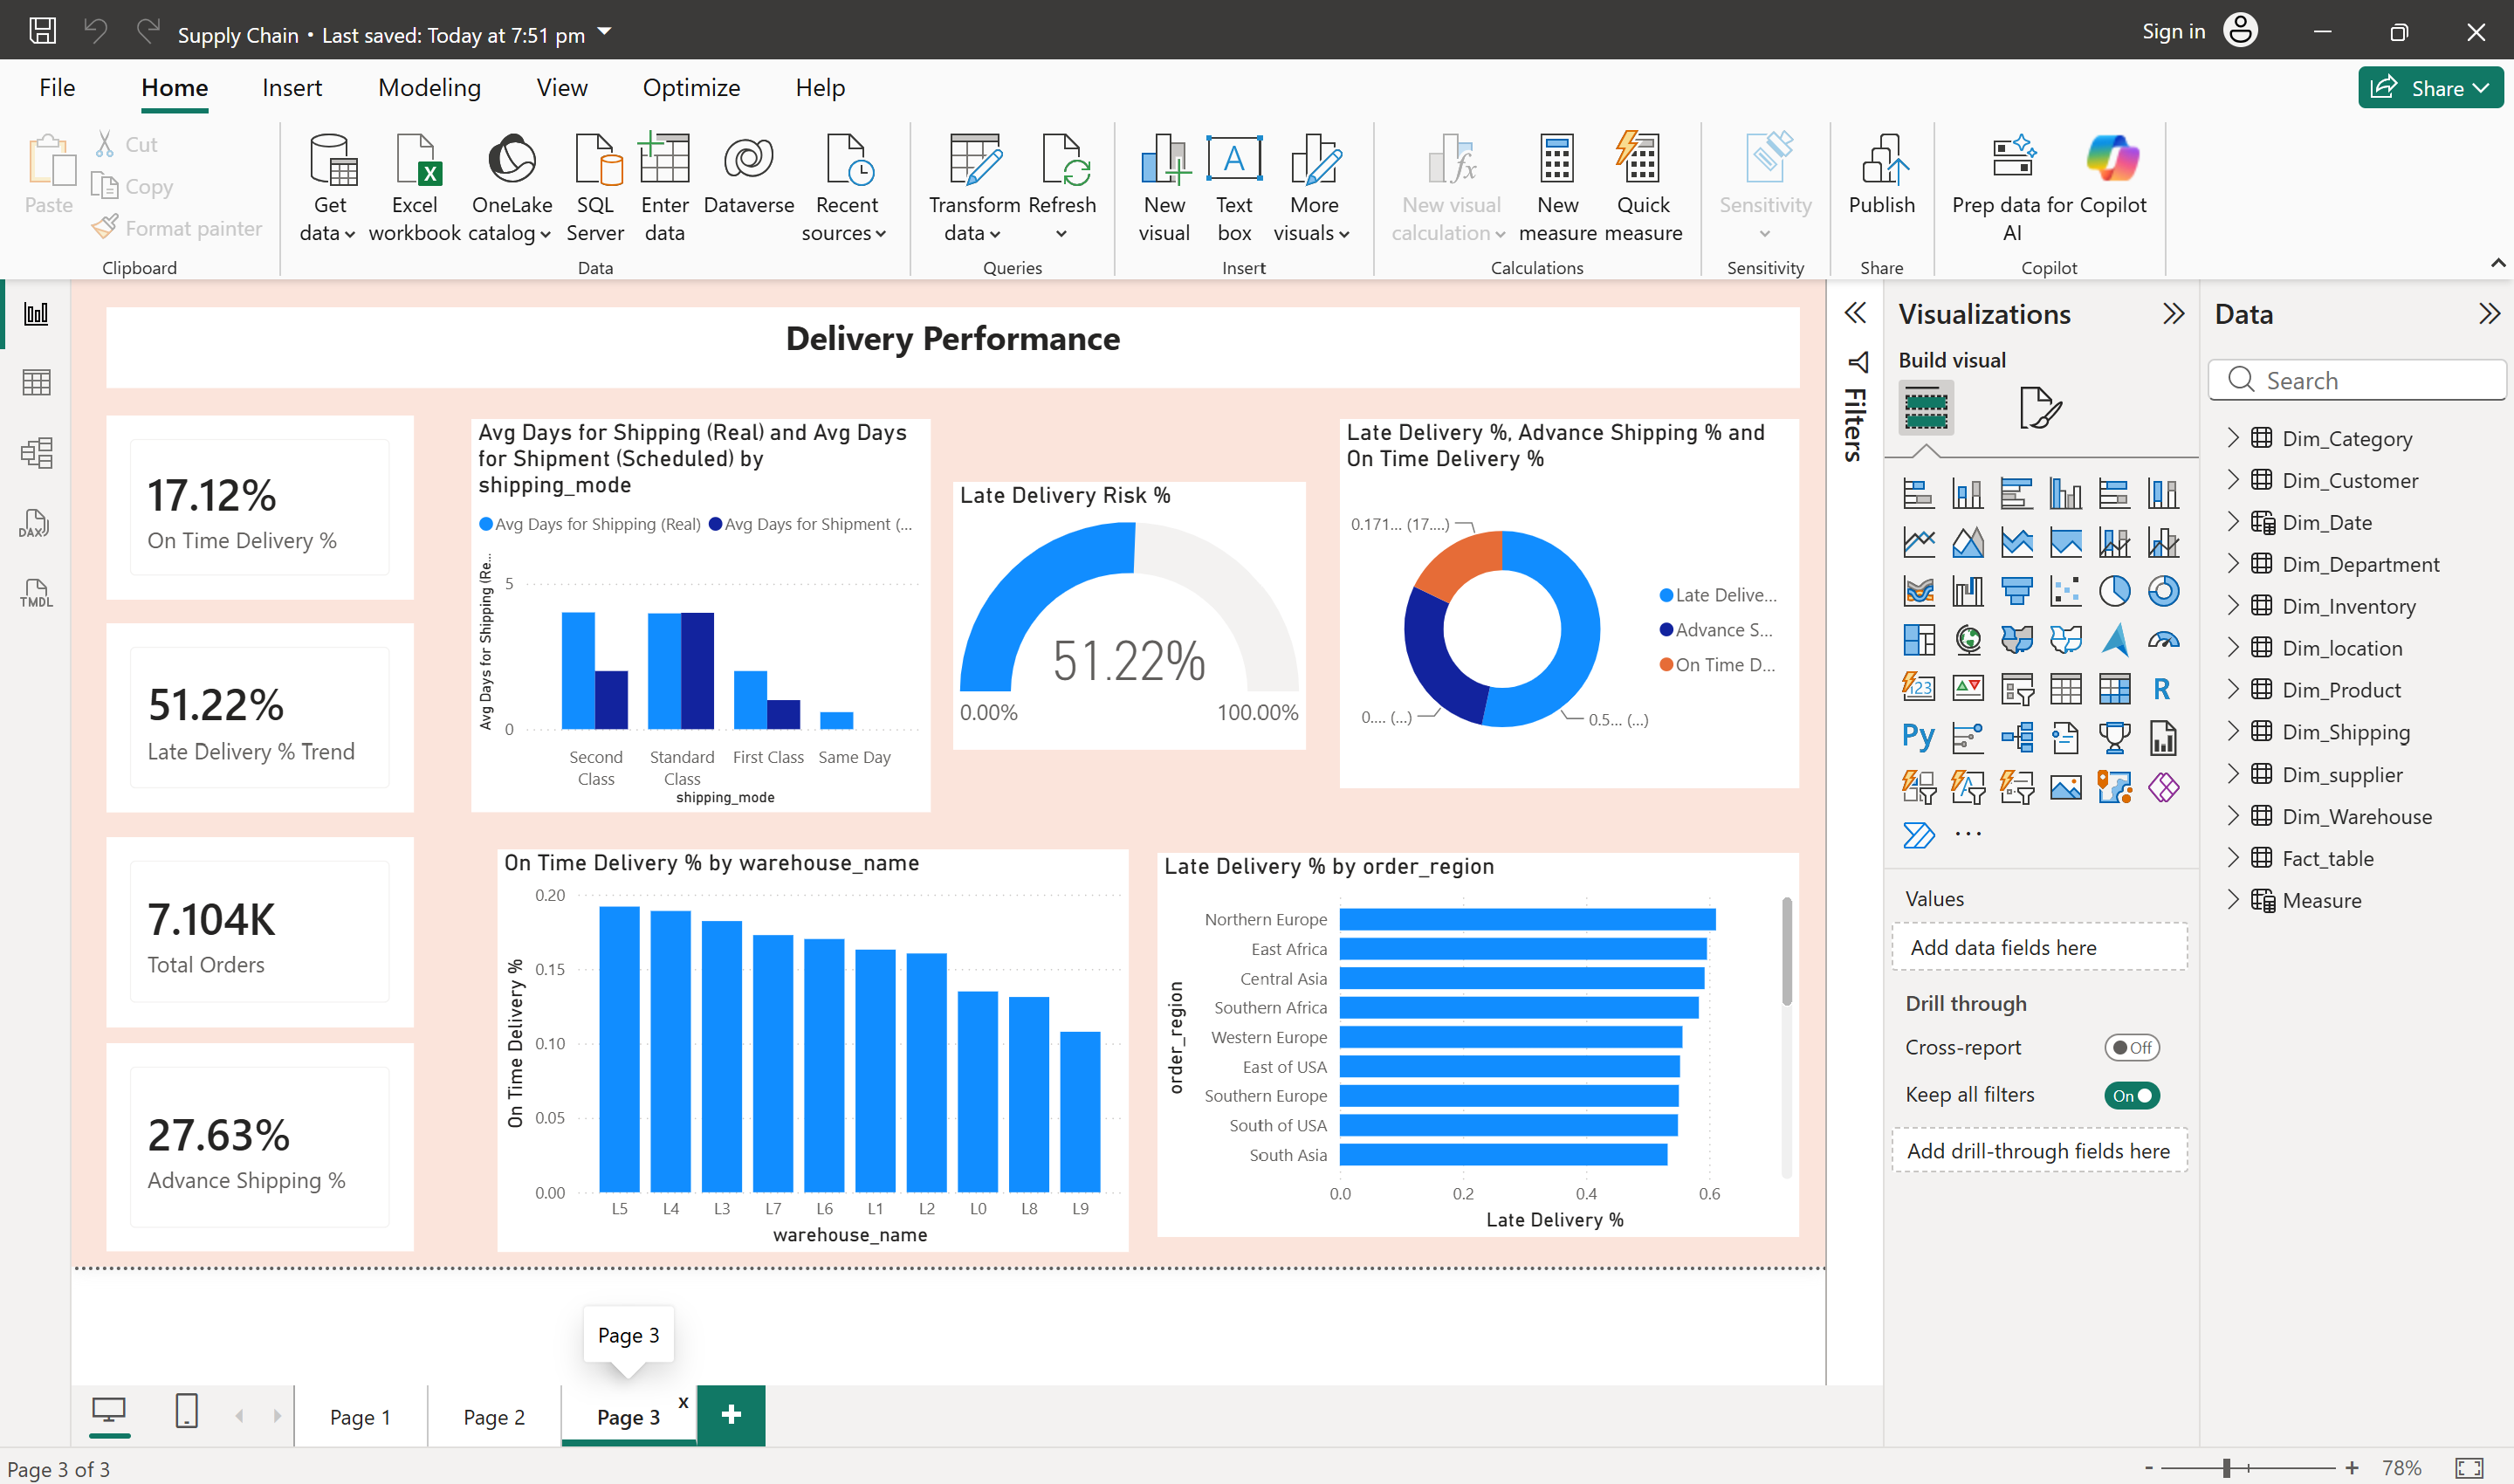

The dashboard page shown, as its layout file describes it:
{"tool":"powerbi","page":{"name":"Page 3","canvas":[1280,720],"ordinal":2},"visuals":[{"type":"cardVisual","fields":{"Data":["Dim_Category.On Time Delivery %"]},"box":[25.1,99,224.5,134.4],"z":0},{"type":"cardVisual","fields":{"Data":["Dim_Category.Late Delivery % Trend"]},"box":[25.1,251.1,224.5,137.4],"z":1000},{"type":"cardVisual","fields":{"Data":["Dim_Category.Total Orders"]},"box":[25.1,406.2,224.5,138.8],"z":2000},{"type":"cardVisual","fields":{"Data":["Dim_Category.Advance Shipping %"]},"box":[25.1,556.8,224.5,152.1],"z":3000},{"type":"textbox","box":[25.1,20.7,1236.2,59.1],"z":4000},{"type":"clusteredColumnChart","fields":{"Category":["Dim_Shipping.shipping_mode"],"Y":["Measure.Avg Days for Shipping (Real)","Measure.Avg Days for Shipment (Scheduled)"]},"box":[292.4,101.9,335.3,286.5],"z":5000},{"type":"barChart","fields":{"Category":["Fact_table.order_region"],"Y":["Dim_Category.Late Delivery %"]},"box":[793.1,418,468.2,280.6],"z":6000},{"type":"gauge","fields":{"Y":["Measure.Late Delivery Risk %"]},"box":[643.9,147.7,257,195],"z":7000},{"type":"donutChart","fields":{"Y":["Dim_Category.Late Delivery %","Dim_Category.Advance Shipping %","Dim_Category.On Time Delivery %"]},"box":[926,101.9,335.3,268.8],"z":8000},{"type":"clusteredColumnChart","fields":{"Y":["Dim_Category.On Time Delivery %"],"Category":["Dim_Warehouse.warehouse_name"]},"box":[311.6,415,460.8,293.9],"z":9000}]}

Visuals, with their boxes on the page's 1280x720 design canvas (x1, y1, x2, y2). These are canvas units, not pixel positions in the 2514x1484 screenshot, which may show the page scaled, cropped or inside an application window:
cardVisual - Dim_Category.On Time Delivery %: locate(25, 99, 250, 233)
cardVisual - Dim_Category.Late Delivery % Trend: locate(25, 251, 250, 388)
cardVisual - Dim_Category.Total Orders: locate(25, 406, 250, 545)
cardVisual - Dim_Category.Advance Shipping %: locate(25, 557, 250, 709)
textbox: locate(25, 21, 1261, 80)
clusteredColumnChart - Dim_Shipping.shipping_mode x Measure.Avg Days for Shipping (Real): locate(292, 102, 628, 388)
barChart - Fact_table.order_region x Dim_Category.Late Delivery %: locate(793, 418, 1261, 699)
gauge - Measure.Late Delivery Risk %: locate(644, 148, 901, 343)
donutChart - Dim_Category.Late Delivery % x Dim_Category.Advance Shipping %: locate(926, 102, 1261, 371)
clusteredColumnChart - Dim_Category.On Time Delivery % x Dim_Warehouse.warehouse_name: locate(312, 415, 772, 709)
